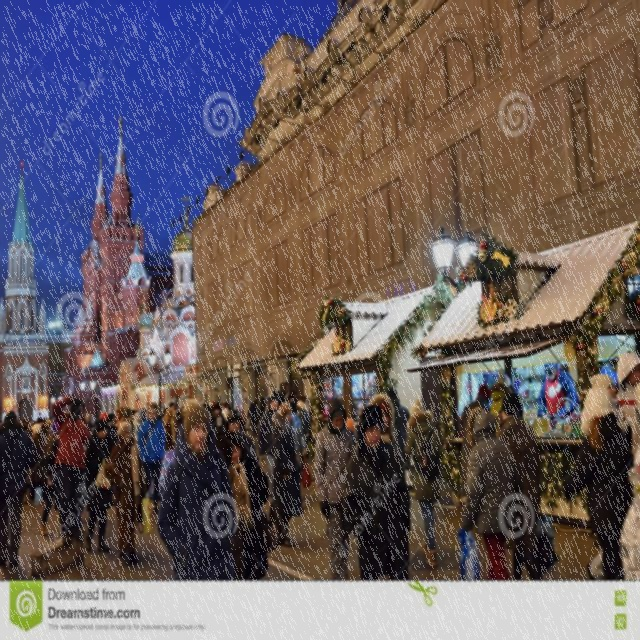pessoa: (340, 402, 412, 639), (558, 384, 638, 580), (156, 396, 239, 582), (453, 404, 518, 624), (496, 391, 544, 584), (314, 396, 358, 581), (402, 395, 444, 569), (225, 430, 273, 580), (50, 391, 94, 553), (104, 421, 152, 565), (0, 409, 38, 570), (268, 400, 306, 549), (214, 434, 250, 580), (84, 417, 115, 553), (458, 383, 494, 497), (136, 400, 168, 516), (17, 406, 53, 504), (368, 392, 407, 480), (156, 398, 186, 501), (38, 416, 62, 538), (535, 361, 580, 423), (614, 351, 640, 458), (201, 392, 240, 462), (620, 449, 640, 582), (257, 392, 280, 505), (288, 406, 312, 488), (385, 386, 412, 456), (586, 372, 622, 410), (488, 369, 514, 420), (296, 394, 312, 458), (95, 401, 132, 427), (246, 393, 268, 435), (272, 381, 298, 414), (239, 434, 260, 466), (132, 406, 150, 441), (82, 404, 95, 436), (106, 426, 120, 444), (345, 416, 357, 436), (239, 407, 247, 434), (0, 411, 4, 426)
